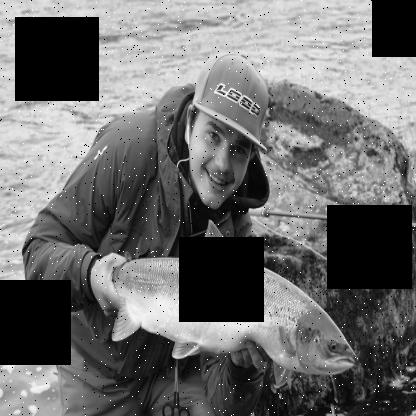fish: (90, 219, 358, 389)
